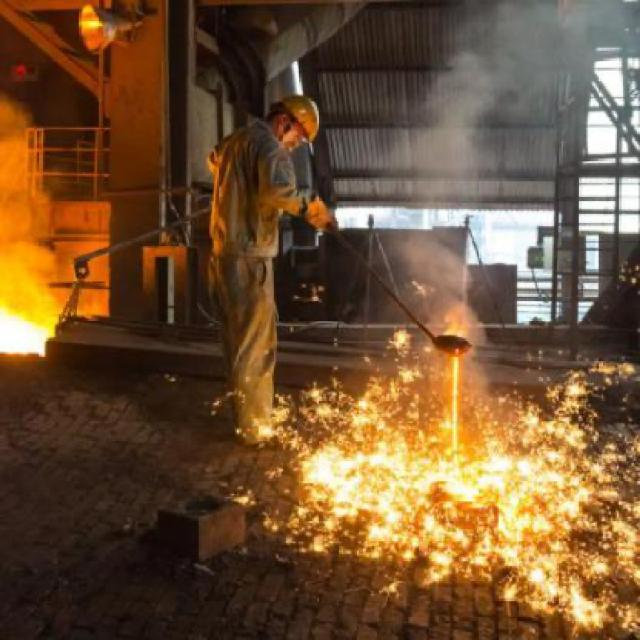con casco: (252, 85, 324, 170)
